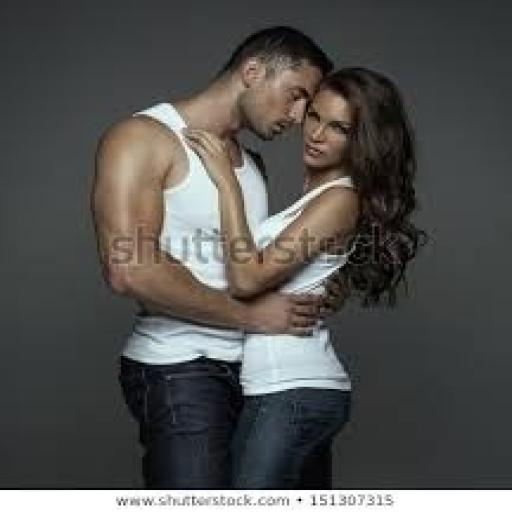hugging: (88, 24, 424, 488)
